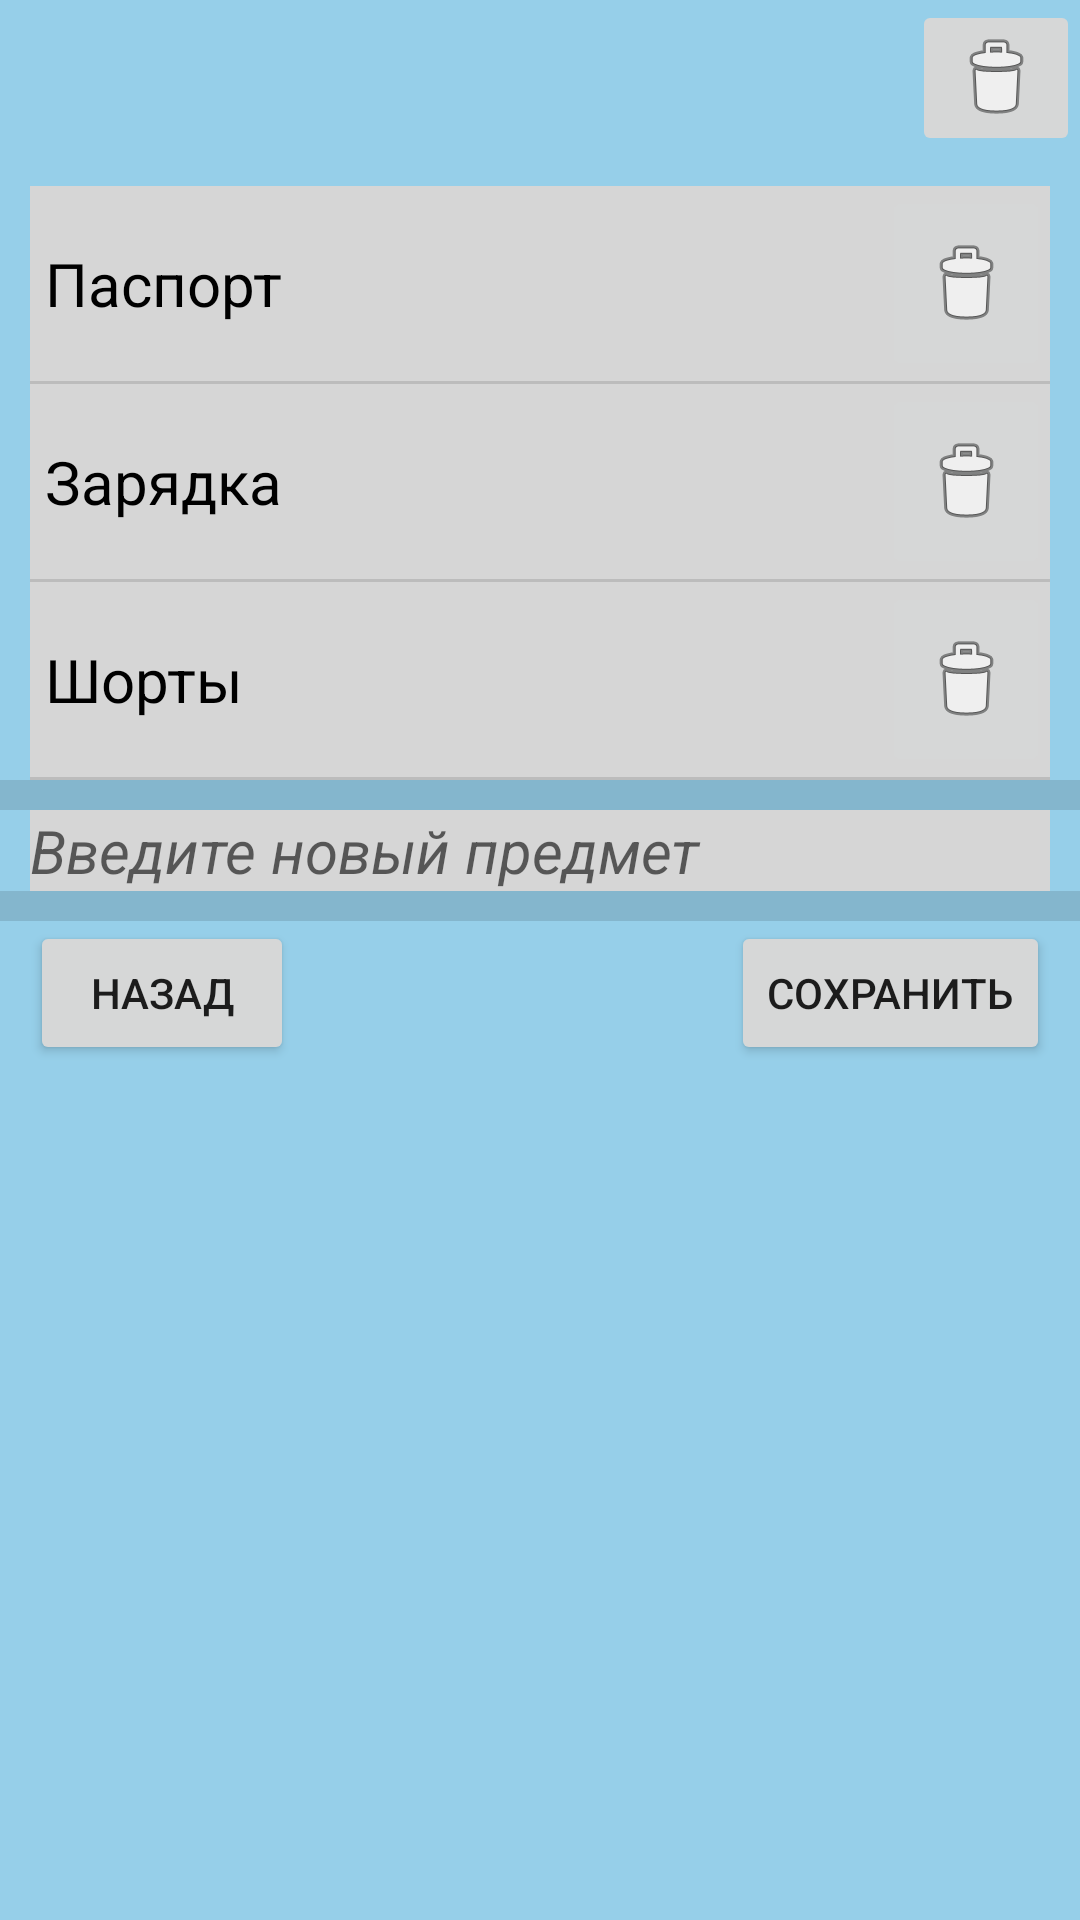

Icon click points for this 1080x1920 phone screenshot, format point (x, y):
delete: point (996, 78), point (966, 282), point (966, 480), point (966, 678)
